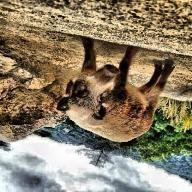boar: (53, 32, 177, 155)
